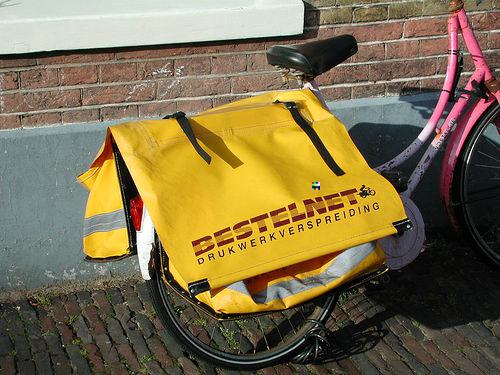car: (133, 1, 500, 371)
